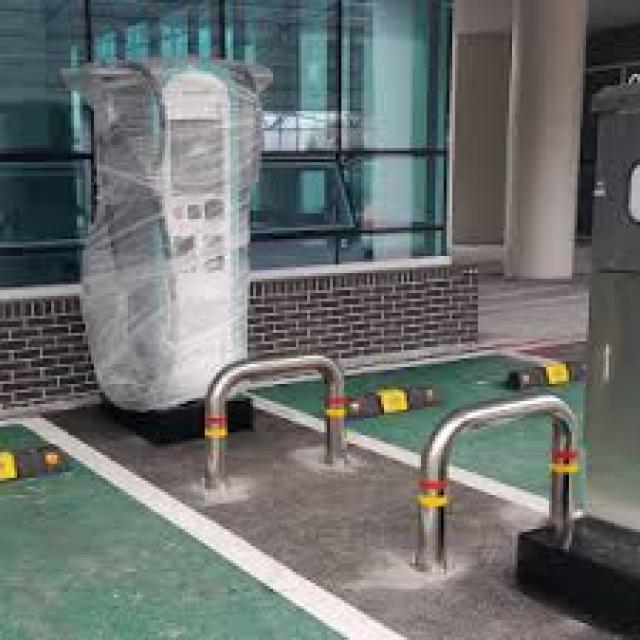bollard: (413, 386, 587, 579), (193, 346, 353, 493)
